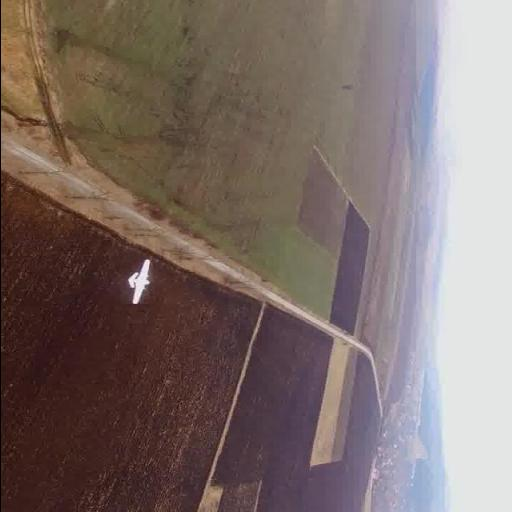uav: (110, 248, 156, 314)
